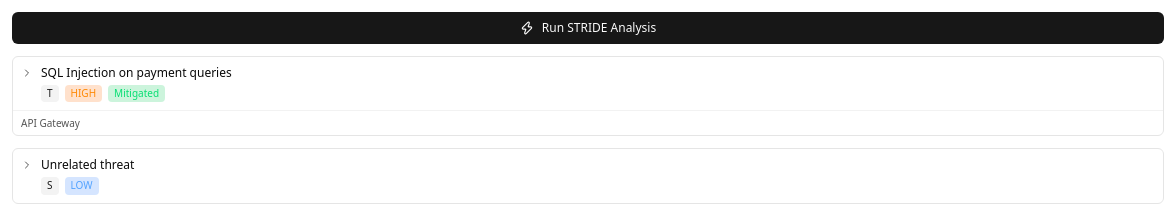
Scenario: ThreatsTab context menu › closes the menu and leaves other threats' clipboard payload untouched when copying one of several
Right-click the text "Unrelated threat" at (88, 165), box [41,157,134,173]
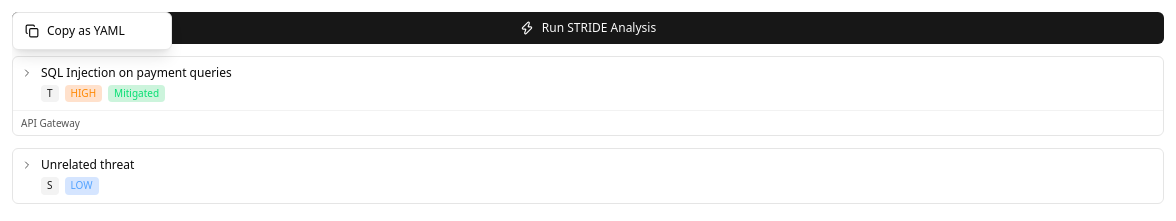
Click the button "Copy as YAML" at (92, 31), box [13,17,171,45]
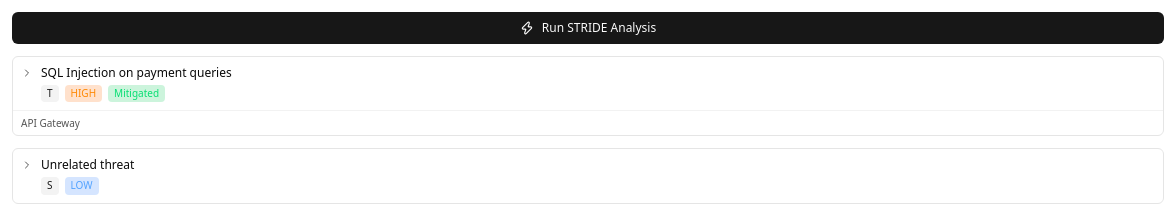
Check: the button "Copy as YAML" is gone
